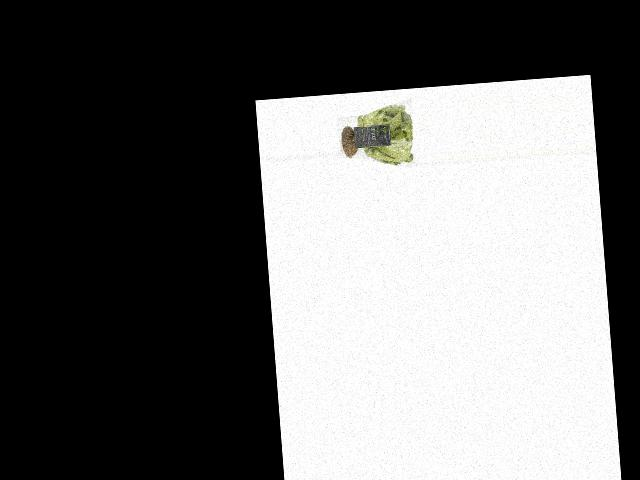lettuce: (334, 100, 416, 171)
